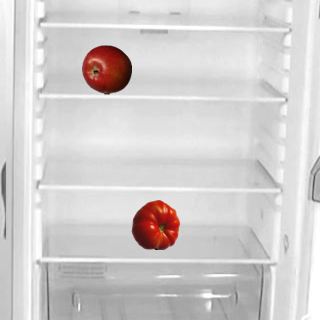Apple Braeburn: (81, 44, 131, 94)
Tomato 3: (130, 199, 180, 249)
